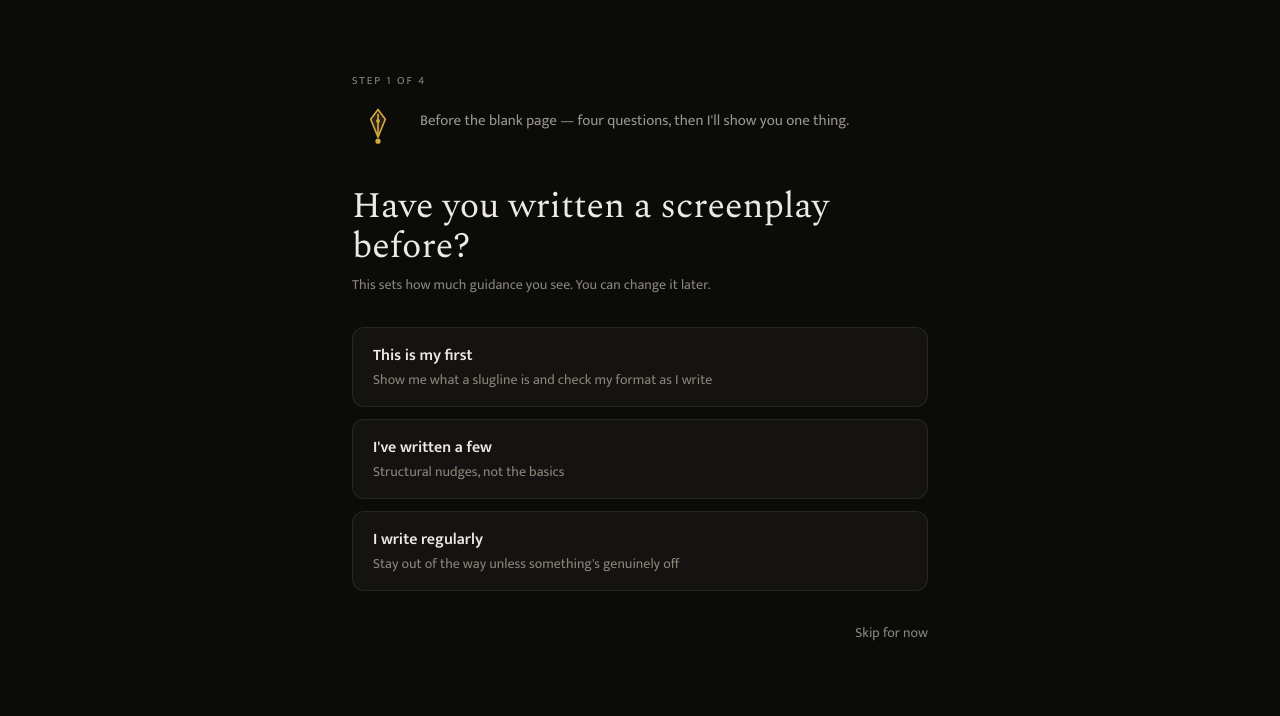
Test: finishing › has a message of its own when the server offers none
The width and height of the screenshot is (1280, 716).
Click the text "This is my first": click(423, 356) left=373, top=342, right=473, bottom=369
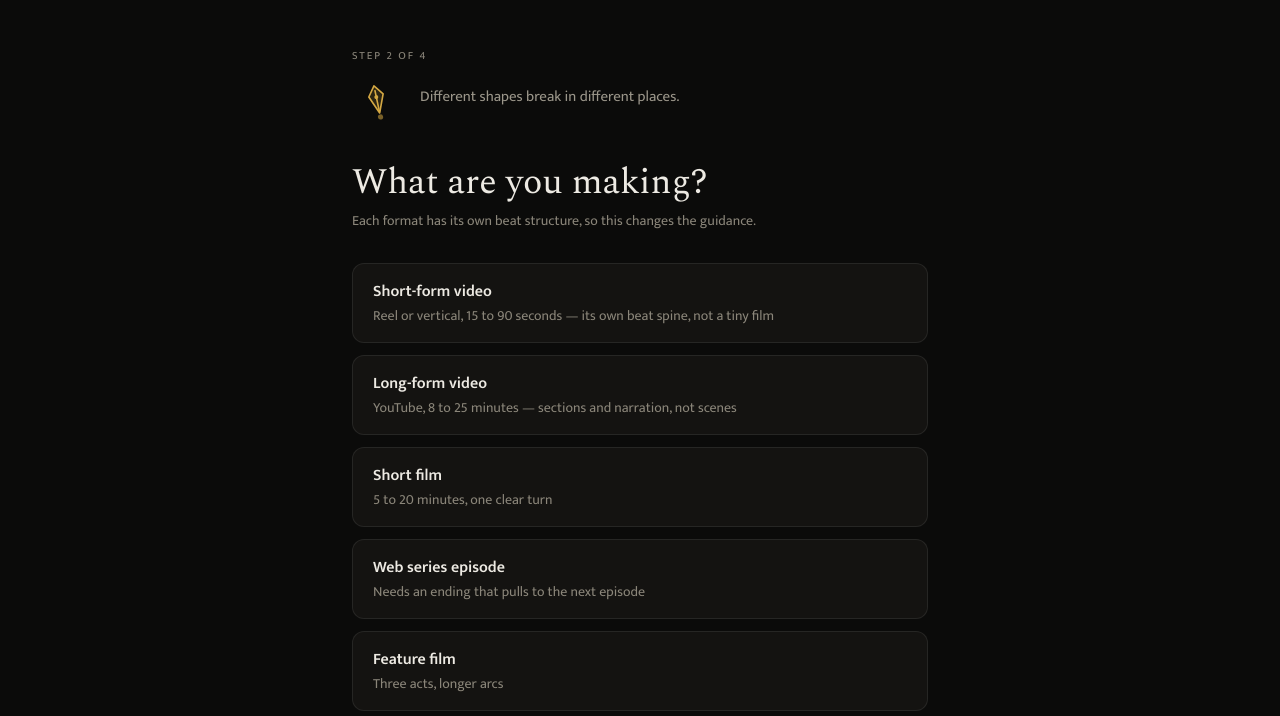
Click the text "Short film": click(408, 475) left=373, top=462, right=442, bottom=488
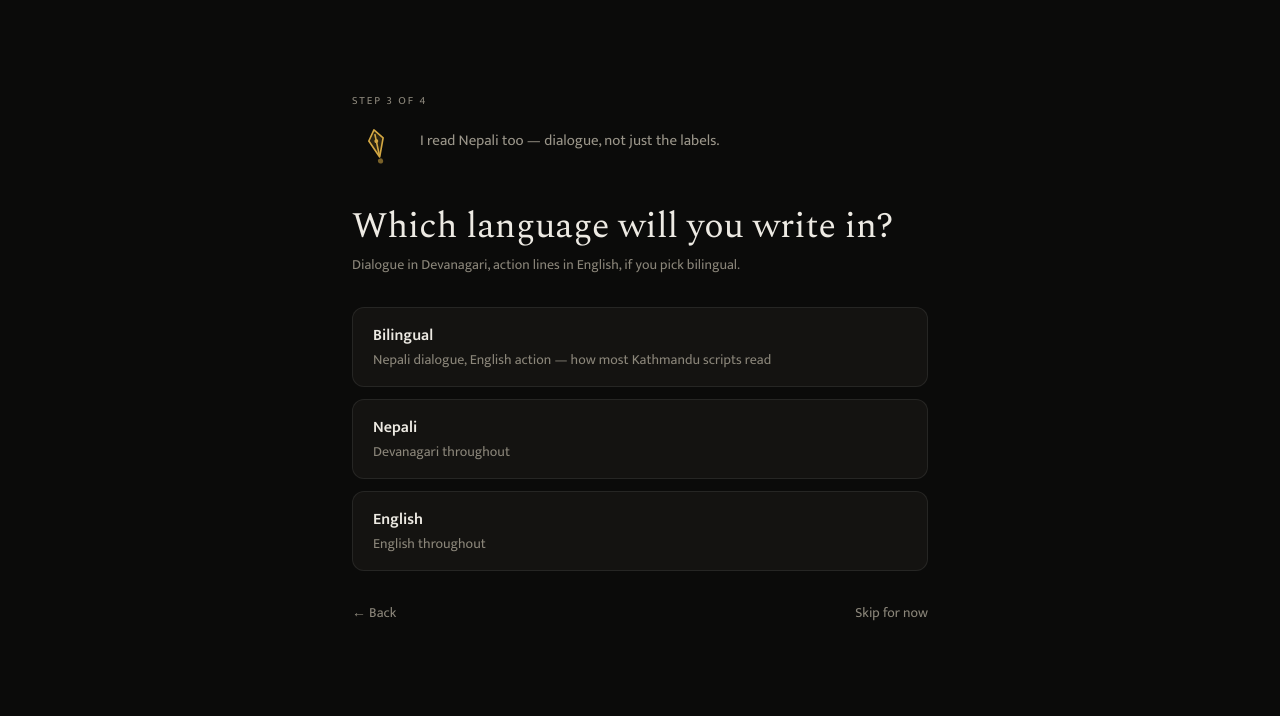
Click the text "Bilingual": click(403, 336) left=373, top=322, right=433, bottom=349
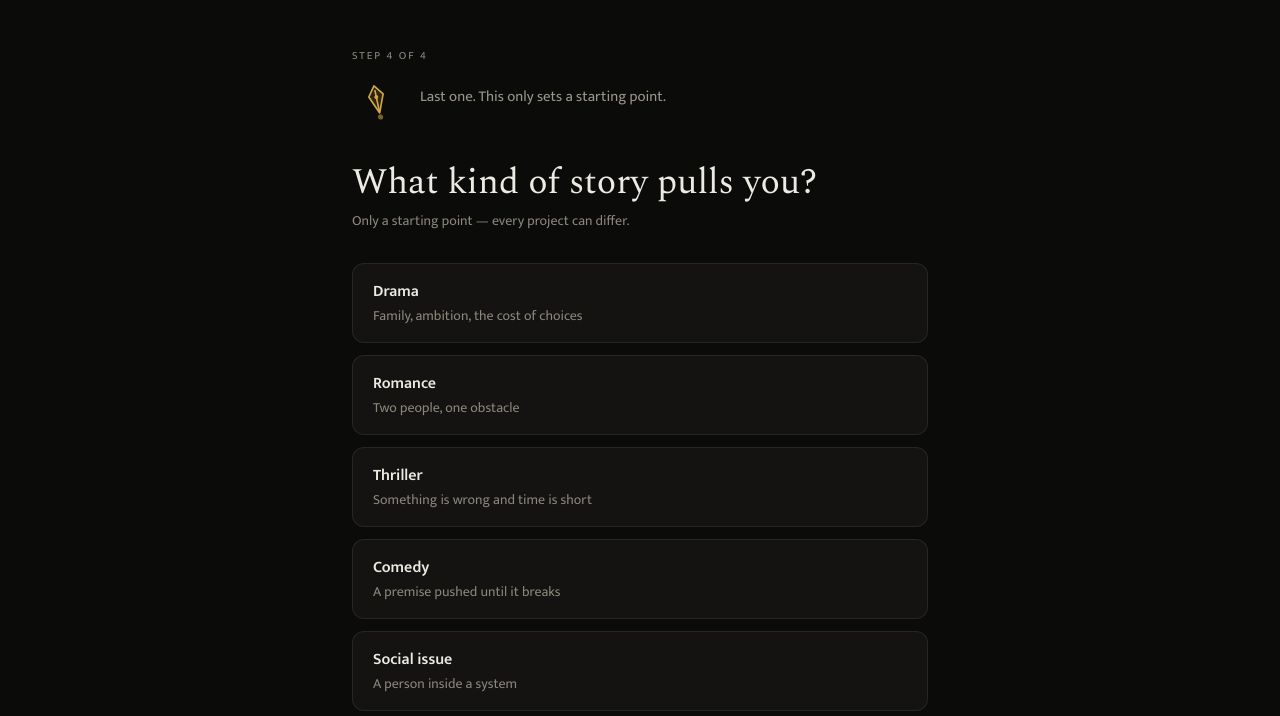
Click the text "Drama": click(396, 291) left=373, top=278, right=419, bottom=304
(page scrolled)
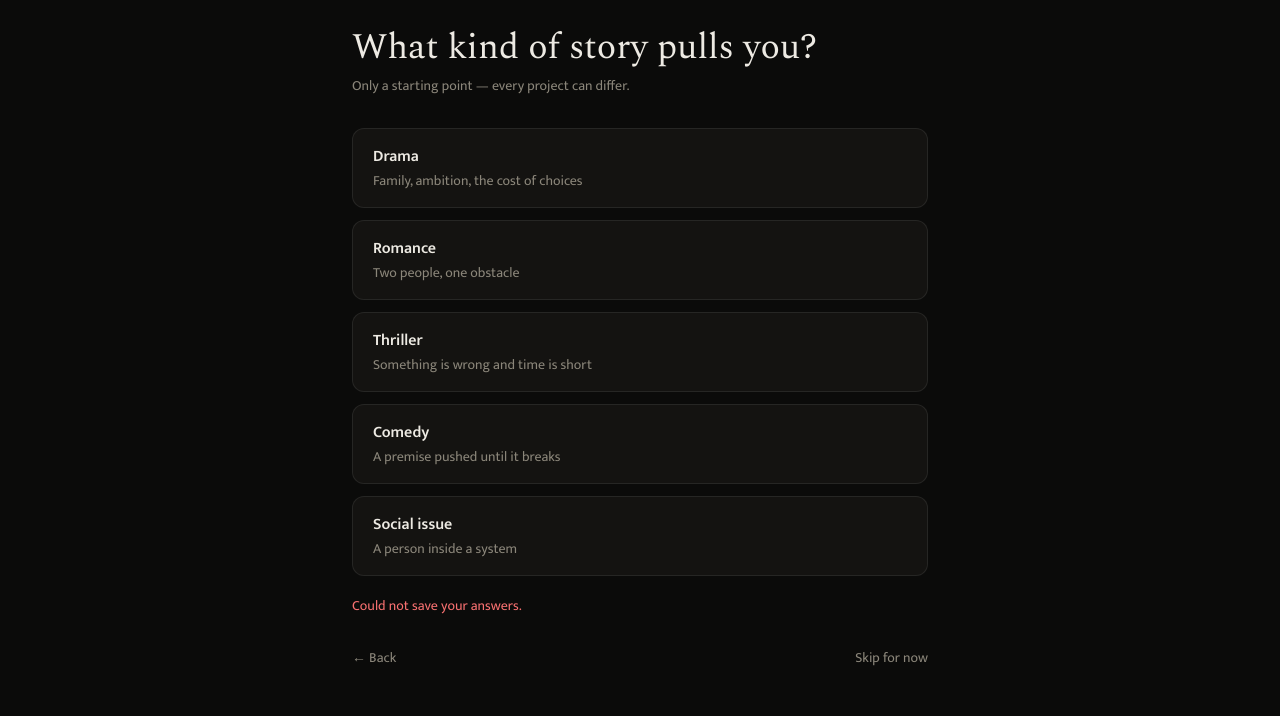
Result: the text "Could not save your answers." is shown at left=352, top=594, right=522, bottom=616
